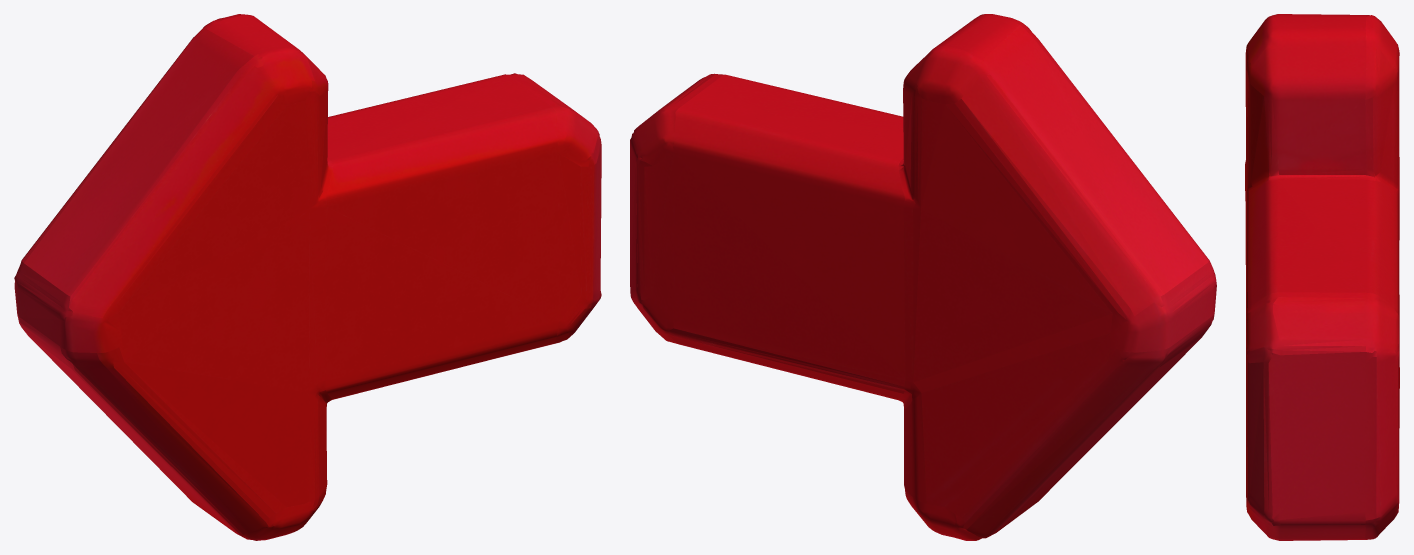
File: Pull_arrow.glb
3 renders of one model, left to right at view 1: azimuth 30°, elevation 25°; view 2: azimuth 150°, elevation 25°; view 3: azimuth 270°, elevation 25°, orthographic. The views are drawn at different scales.
Visible parts, largest first — view 1: mesh_node; view 2: mesh_node; view 3: mesh_node.
Boxes of the visible parts, x1,y1,x2,y2 form: mesh_node: (14,14,601,540); mesh_node: (630,14,1216,540); mesh_node: (1245,14,1399,540).
Size of the model in its own units: 1 by 0.8672 by 0.2412.
1 material, 1 textured.
